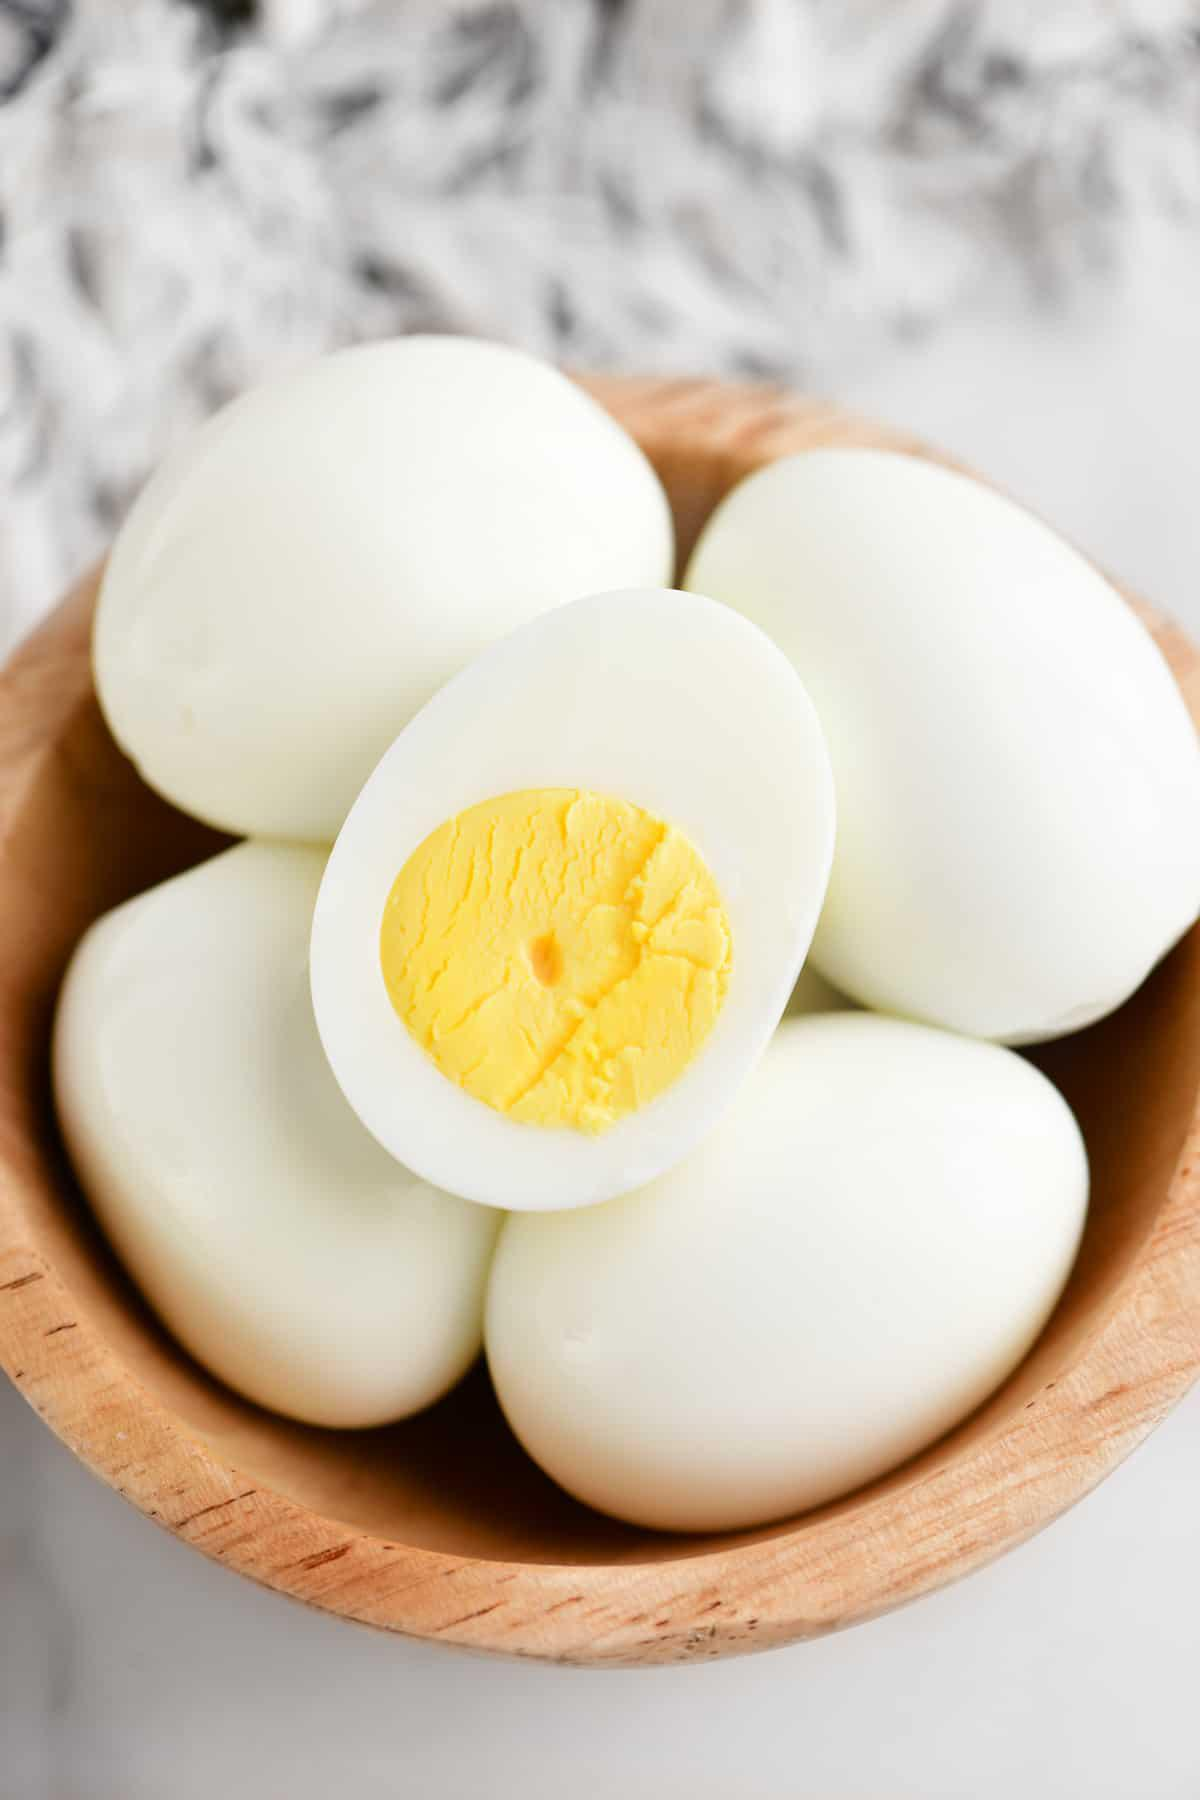egg: (655, 451, 1200, 1043), (490, 1019, 1089, 1536), (91, 329, 675, 834), (48, 837, 536, 1426)
